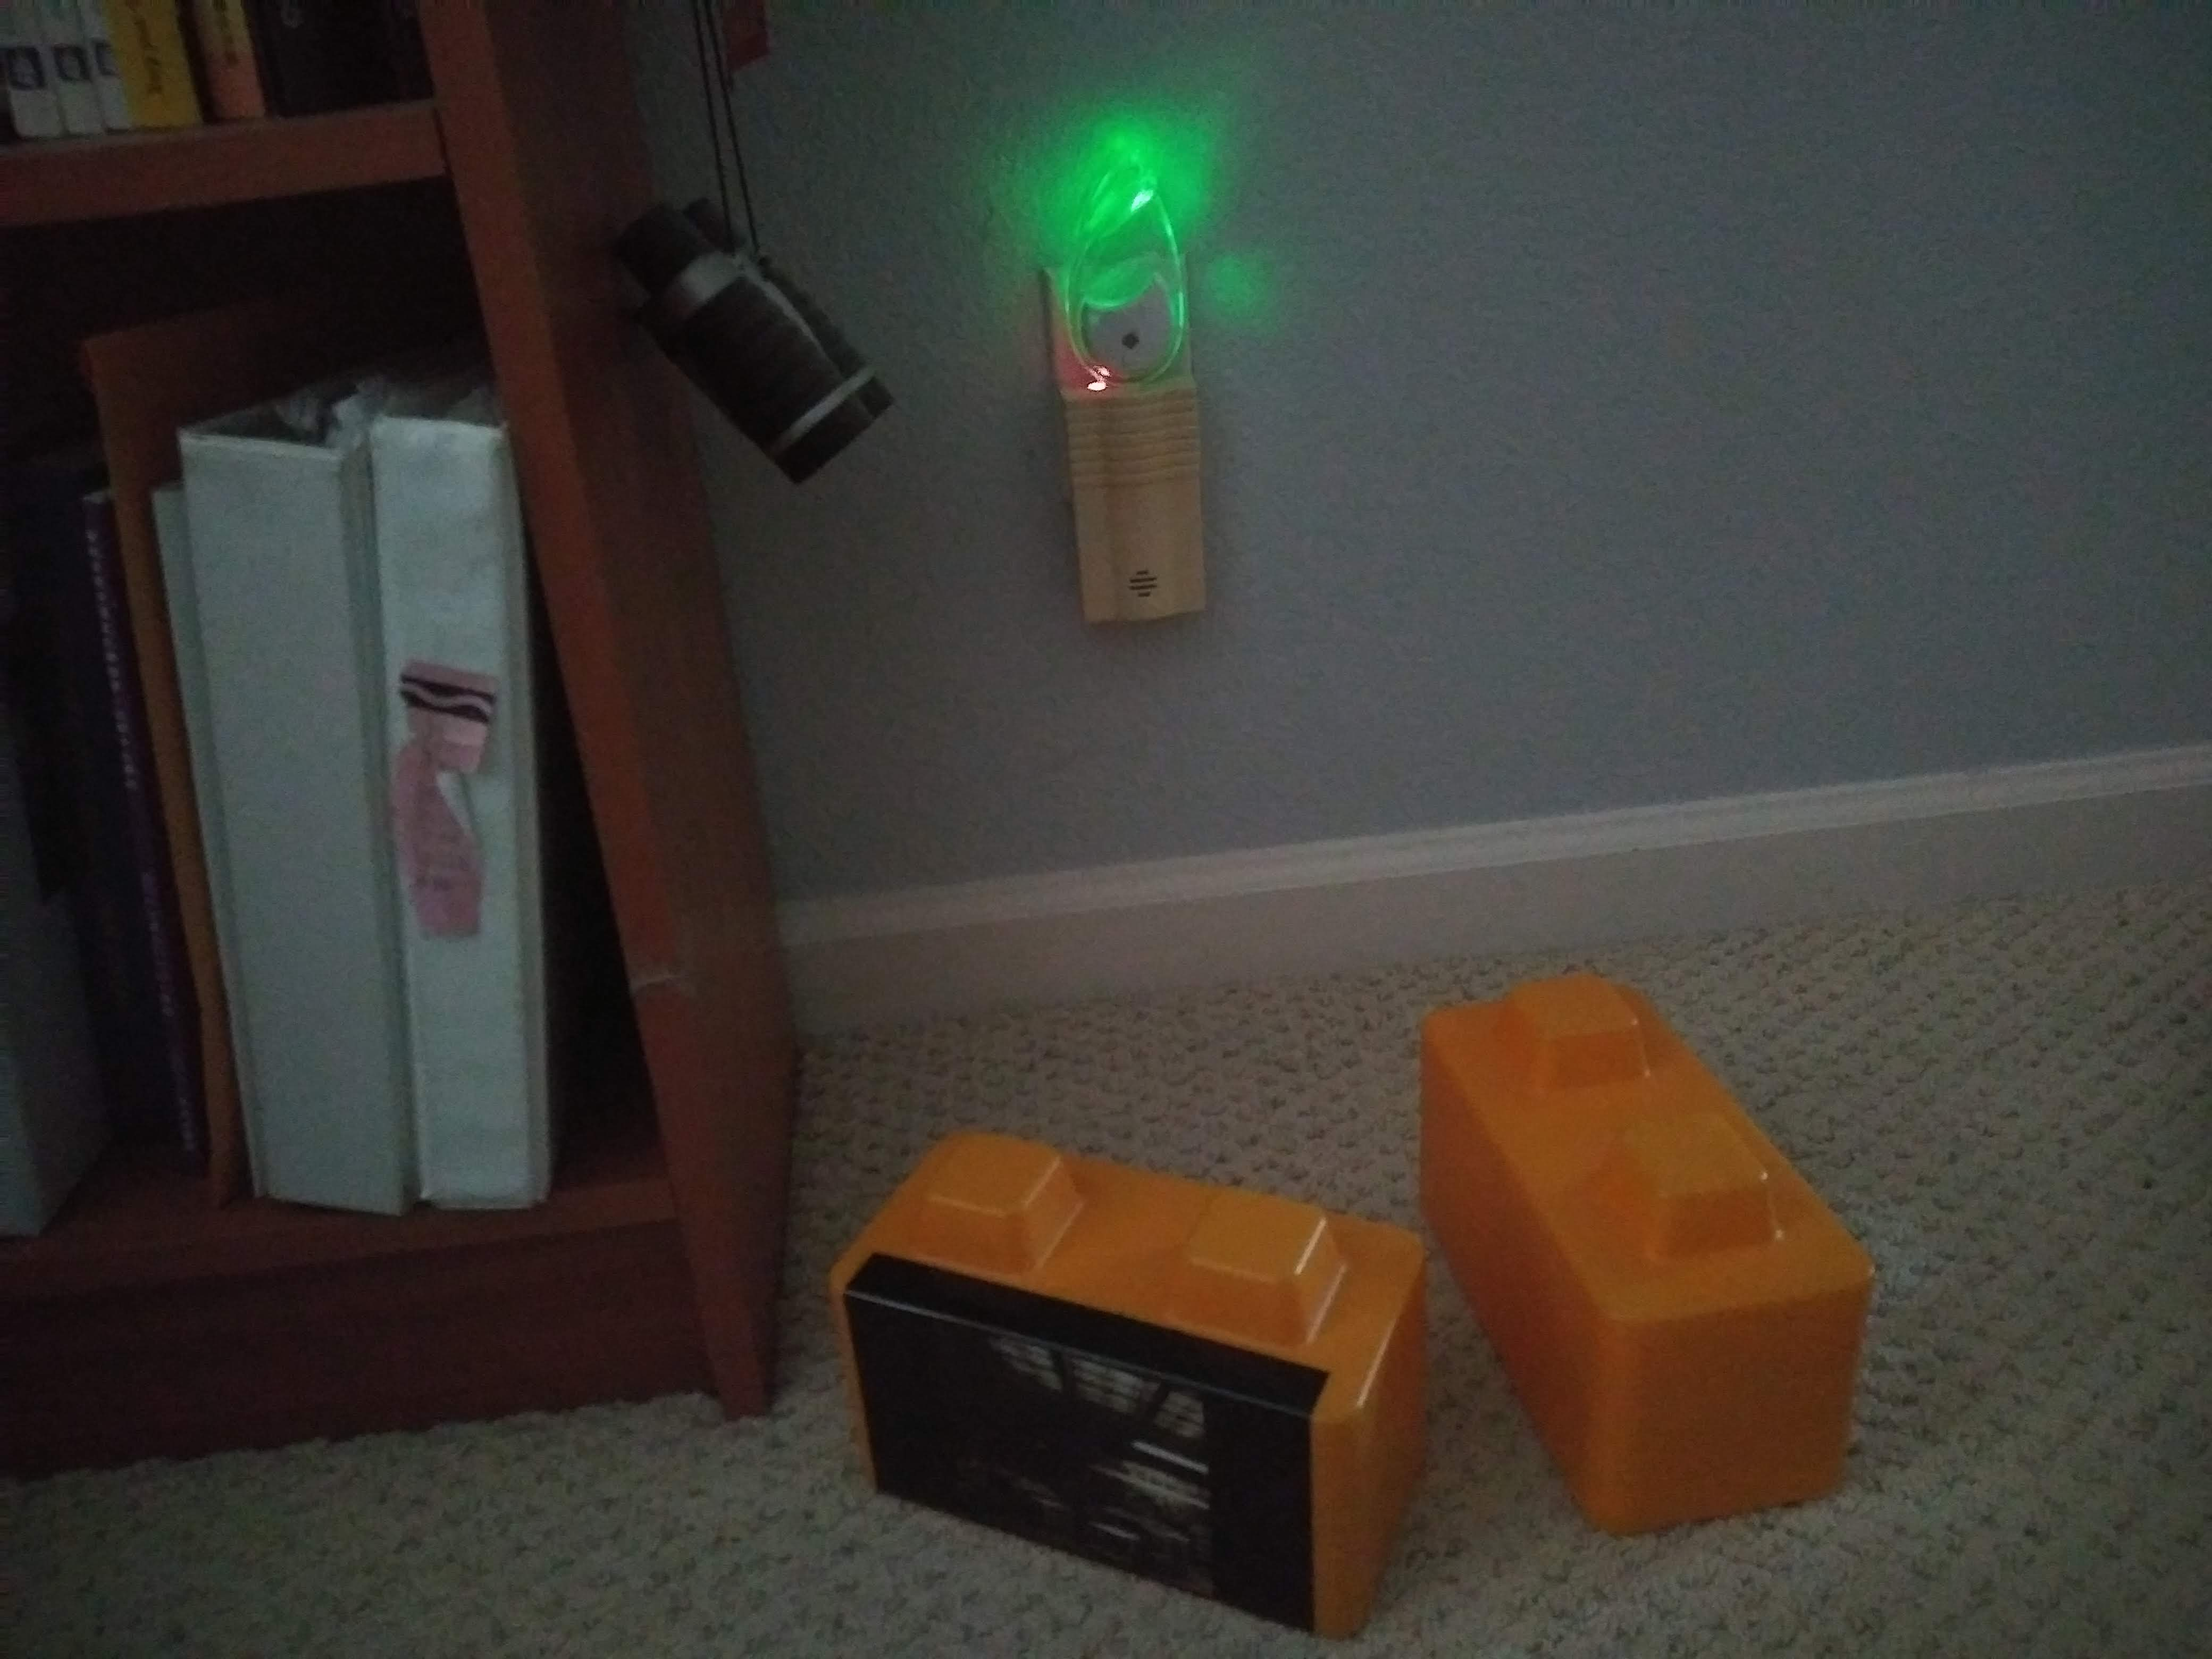skystone: (845, 1159, 1379, 1628)
stone: (1425, 1004, 1874, 1500)
